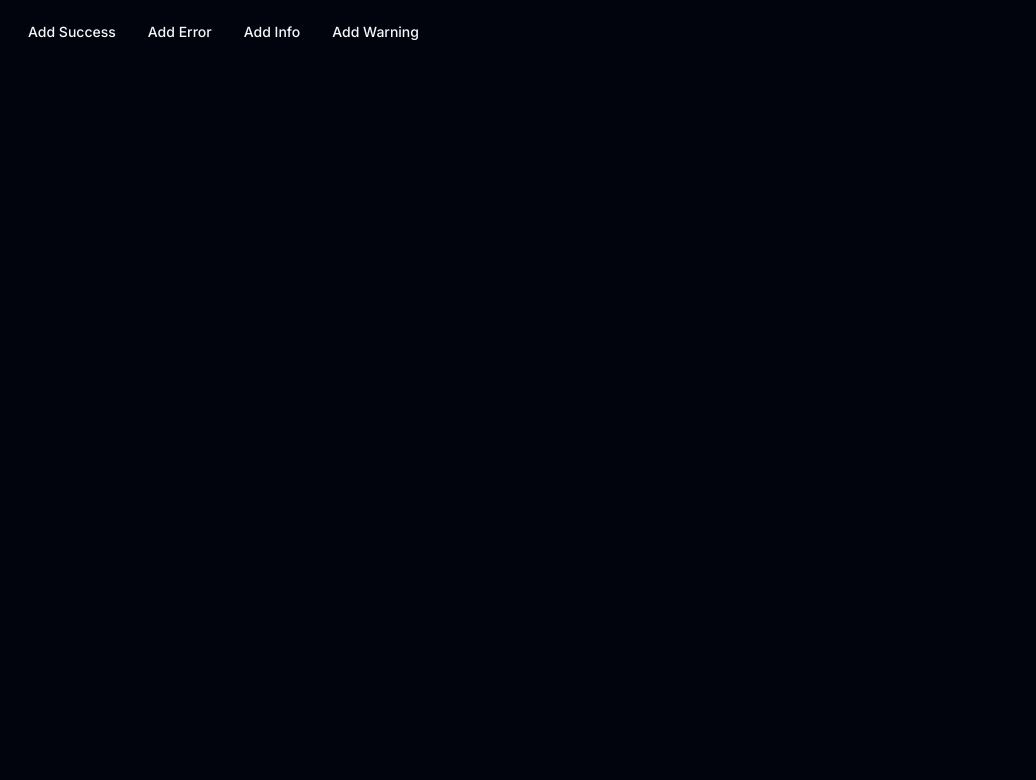
Test: ToastContext › removes toast via close button
Click the button "Add Success".
click(72, 32)  # box [12,12,132,52]
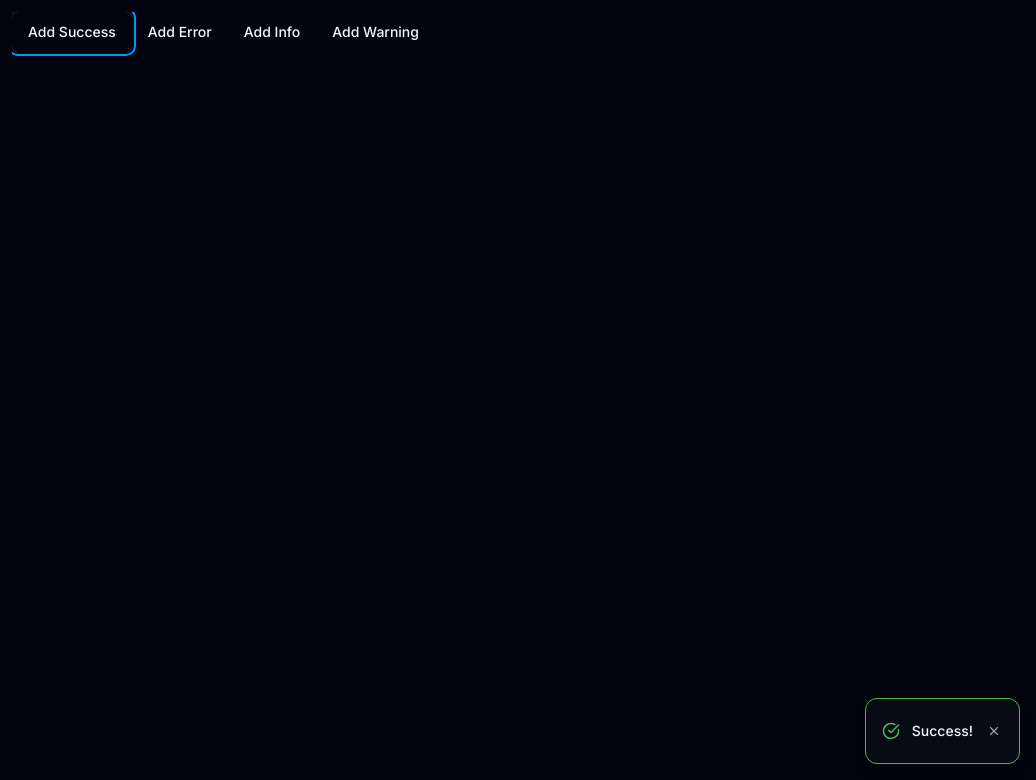
Expected: the text "Success!" is shown, [912,721,973,741]
Click the button named "Fechar notificação: Success!".
click(994, 731)  # box [985,711,1003,751]
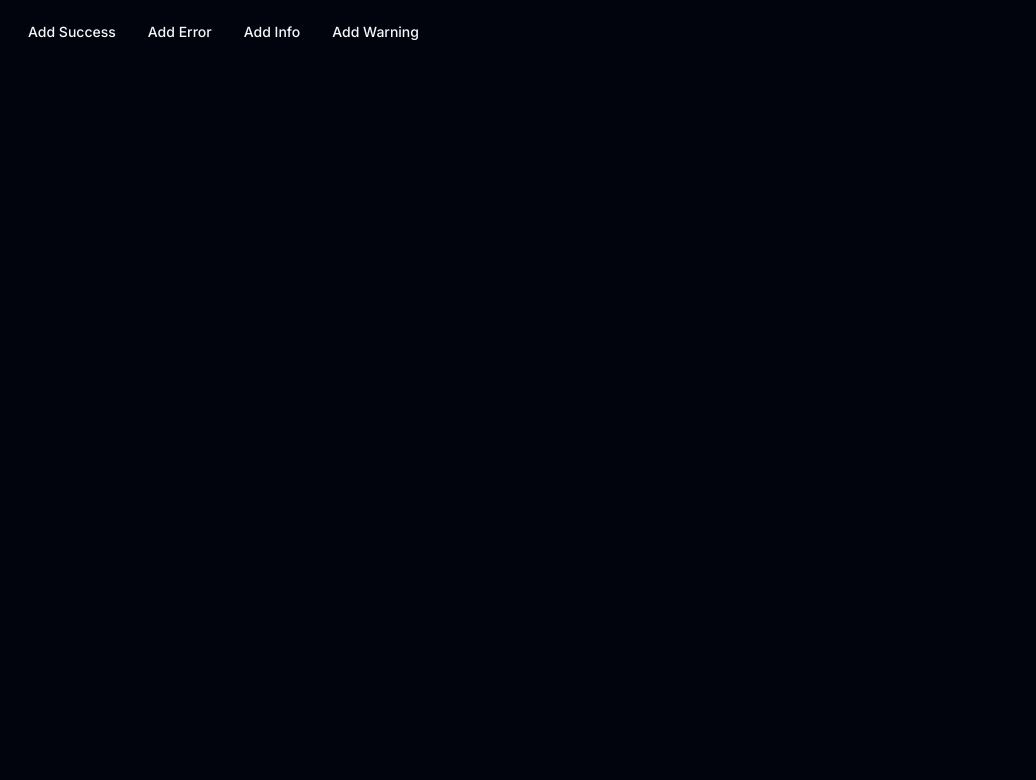
Expected: the text "Success!" is gone
